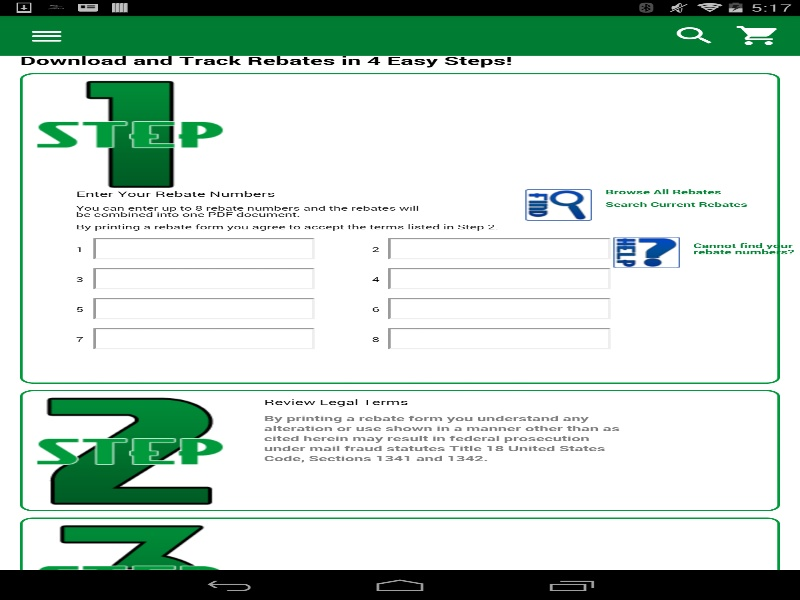Button: (10, 15, 85, 55)
Input: (388, 238, 612, 259), (388, 268, 612, 289), (388, 298, 612, 319), (388, 328, 612, 349), (93, 238, 316, 259), (93, 268, 316, 289), (93, 298, 316, 319), (93, 328, 316, 349)
